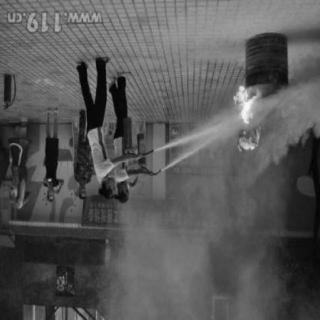Smoke: (118, 235, 198, 318)
